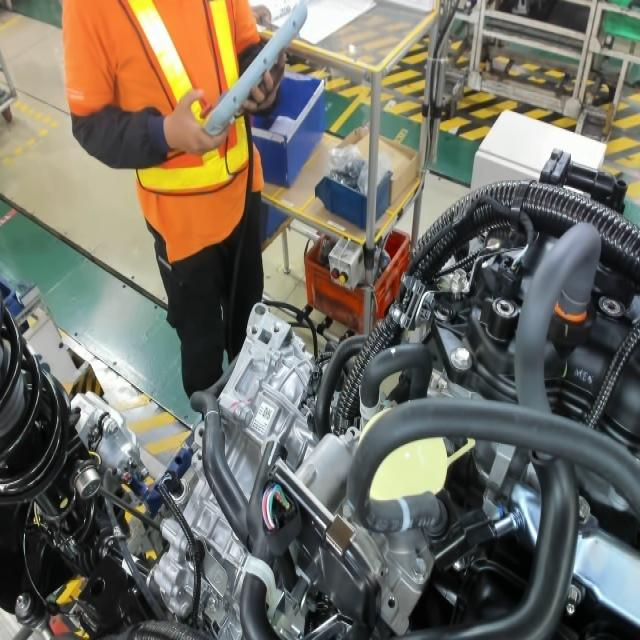Drive Shaft-PT: (390, 495, 416, 536)
